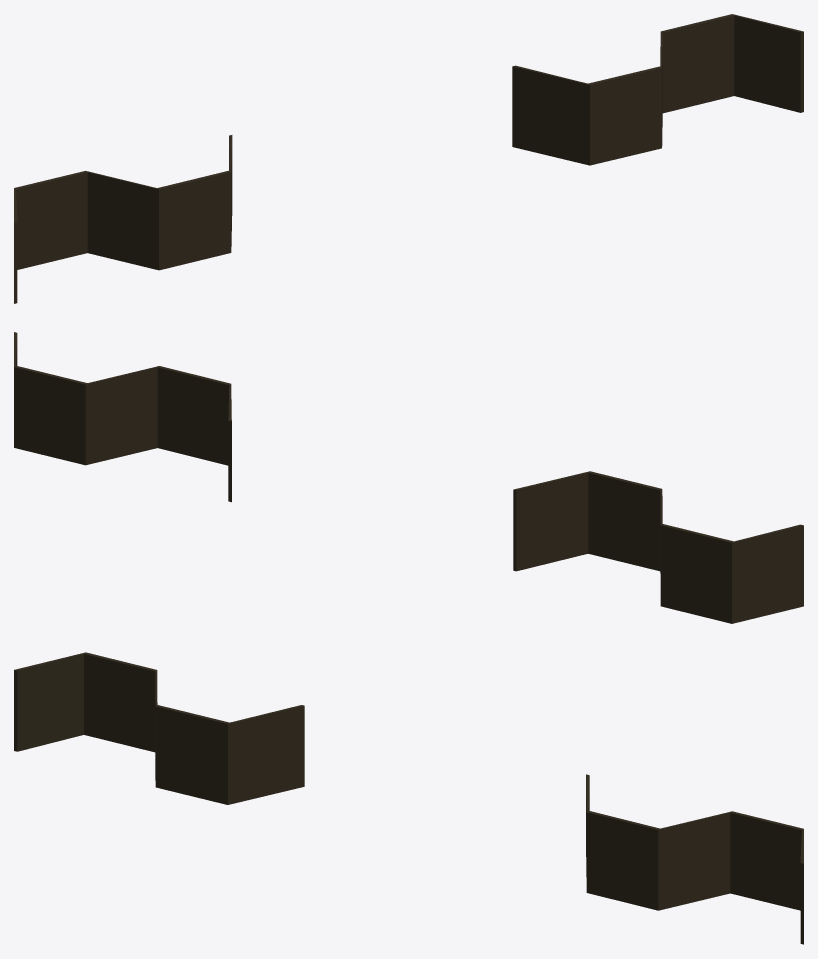
File: Stage1SeeableWalls.fbx
3 views of the same model, one above another, from view 1: azimuth 30°, elevation 25°; view 2: azimuth 150°, elevation 25°; view 3: azimuth 330°, elevation 25° (orthographic).
Visible parts, largest first — view 1: InnerWalls2, InnerWalls1; view 2: InnerWalls1, InnerWalls2; view 3: InnerWalls1, InnerWalls2.
Part boxes in pixels (x1,y1,x2,y2): InnerWalls2: (512,14,803,165); InnerWalls1: (14,135,232,303); InnerWalls1: (513,471,803,623); InnerWalls2: (14,332,231,502); InnerWalls1: (14,652,304,804); InnerWalls2: (586,774,803,944).
Size of the model in its own units: 102 by 10 by 8.71.
